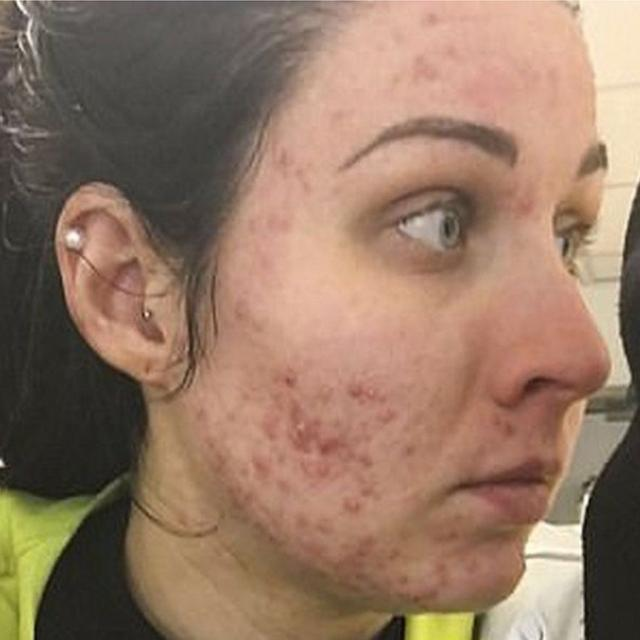acne: (168, 0, 531, 588)
